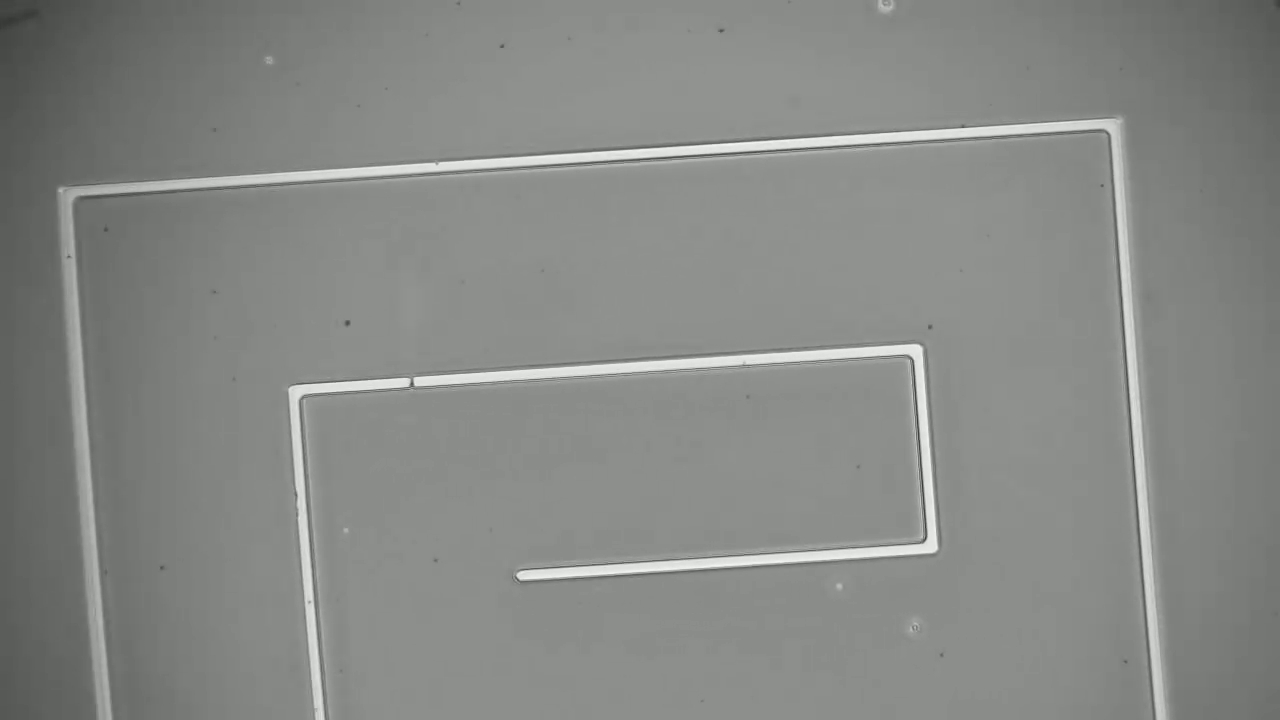stains_enbedded: (401, 372, 422, 396)
